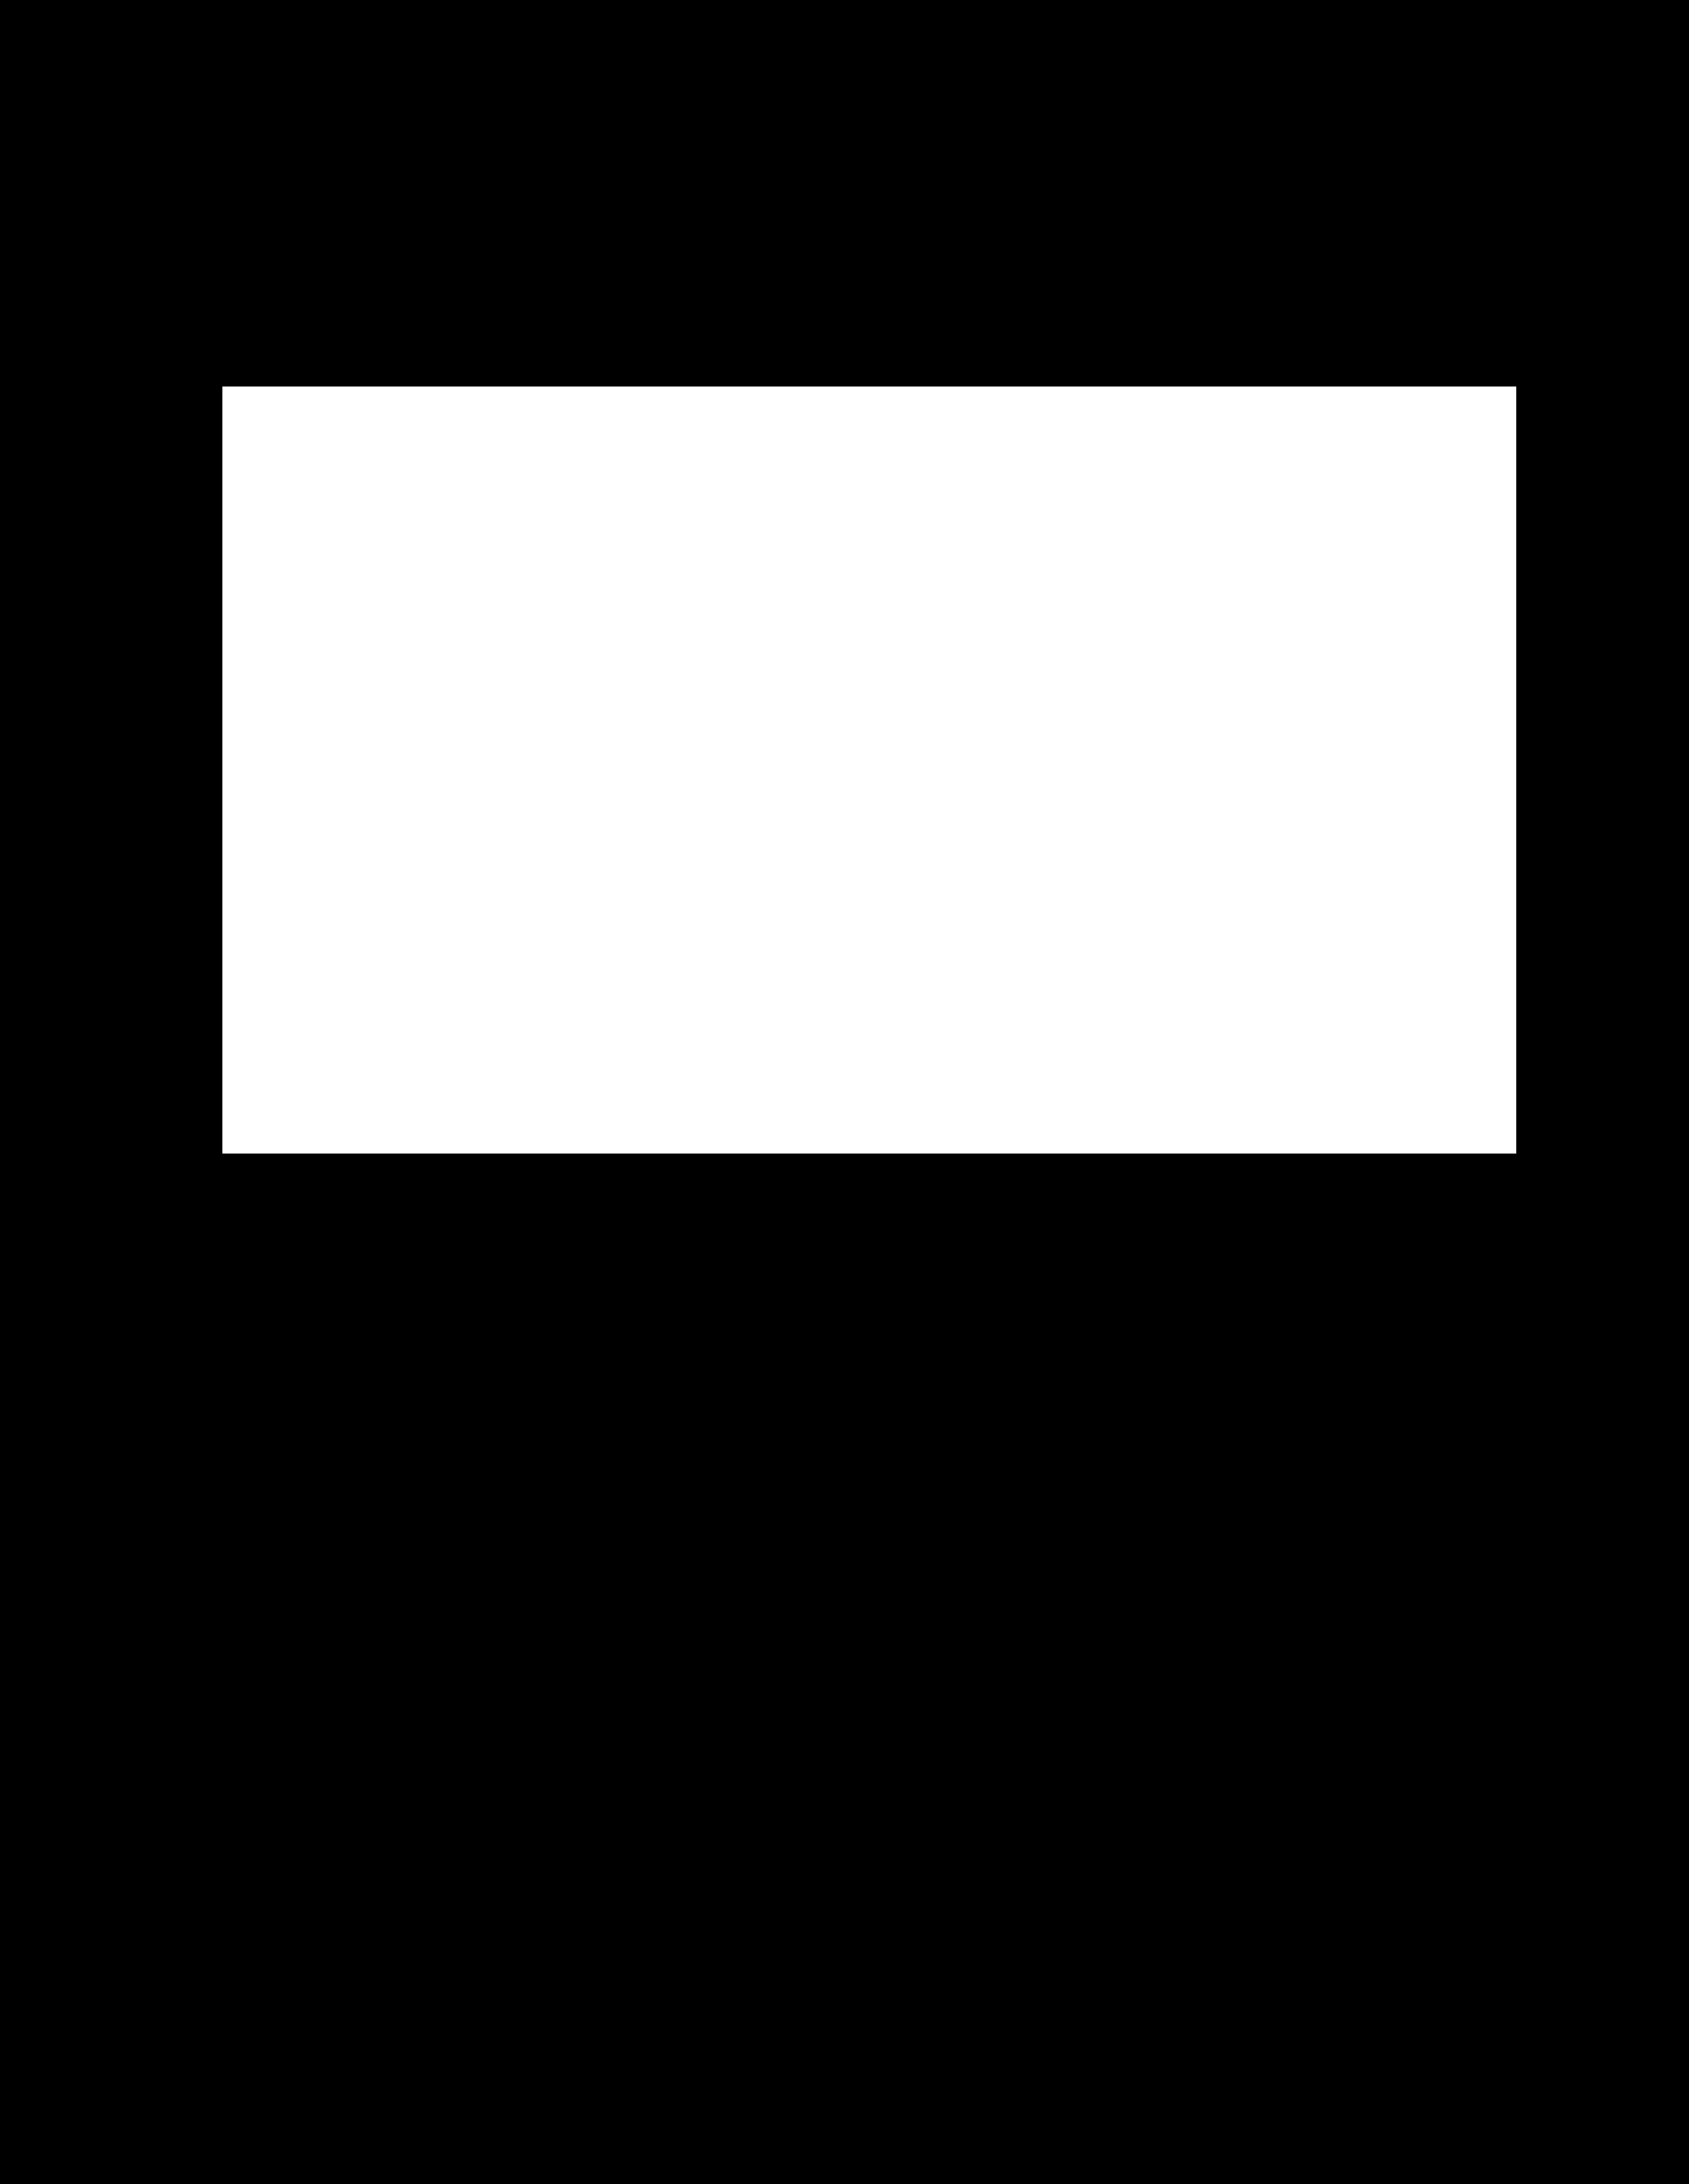table: (222, 386, 1515, 1152)
